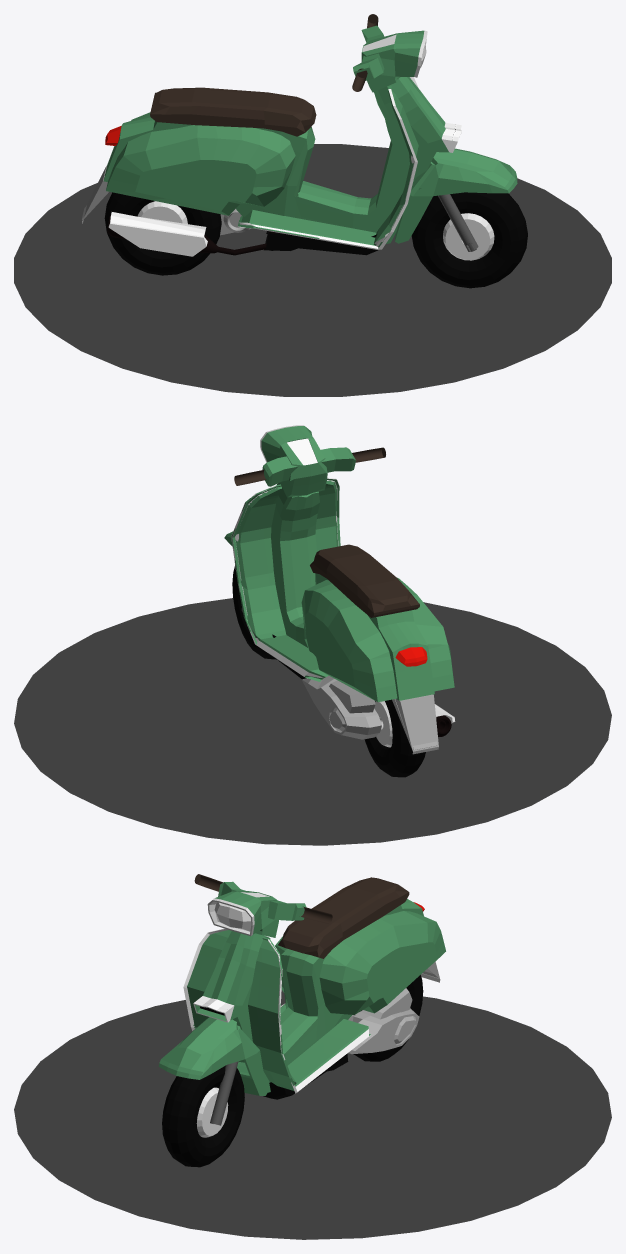
The model's file is moto.glb.
The picture shows the model from 3 angles, top to bottom: view 1: azimuth 30°, elevation 25°; view 2: azimuth 150°, elevation 25°; view 3: azimuth 270°, elevation 25°; orthographic projection.
Visible parts, largest first — view 1: floor_0, Plane.002_22, Plane.001_21, Torus.001_11, Seat_16, Plane.006_24, Plane.005_25, Torus_26, Plane.008_10, Plane.004_23, Torus.002_12, Plane.007_14 (+4 smaller); view 2: floor_0, Plane.002_22, Plane.005_25, Plane.001_21, Seat_16, Plane.004_23, Plane.003_13, Handlebar_20, Torus_26, Cube.001_18, Torus.001_11, Torus.003_27; view 3: floor_0, Plane.002_22, Plane.001_21, Plane.005_25, Torus.001_11, Seat_16, Plane.006_24, Plane.003_13, Plane.004_23, Handlebar_20, Torus.002_12, Torus_26 (+3 smaller).
Part boxes in pixels (x1,y1,x2,y2): floor_0: [14, 144, 611, 396]; Plane.002_22: [106, 112, 295, 215]; Plane.001_21: [103, 76, 461, 243]; Torus.001_11: [411, 192, 527, 288]; Seat_16: [150, 87, 316, 136]; Plane.006_24: [395, 148, 517, 243]; Plane.005_25: [238, 77, 418, 249]; Torus_26: [104, 192, 221, 275]; Plane.008_10: [108, 212, 207, 256]; Plane.004_23: [361, 30, 427, 92]; Torus.002_12: [443, 213, 494, 260]; Plane.007_14: [264, 231, 377, 255]; floor_0: [14, 598, 611, 845]; Plane.002_22: [301, 577, 454, 702]; Plane.005_25: [231, 477, 340, 681]; Plane.001_21: [271, 482, 434, 700]; Seat_16: [310, 544, 419, 617]; Plane.004_23: [260, 425, 327, 497]; Plane.003_13: [301, 675, 381, 739]; Handlebar_20: [234, 447, 385, 486]; Torus_26: [364, 699, 425, 777]; Cube.001_18: [392, 694, 438, 754]; Torus.001_11: [232, 565, 277, 659]; Torus.003_27: [374, 701, 392, 747]; floor_0: [14, 990, 611, 1239]; Plane.002_22: [275, 911, 445, 1014]; Plane.001_21: [193, 899, 423, 1092]; Plane.005_25: [183, 928, 370, 1093]; Torus.001_11: [162, 1065, 244, 1167]; Seat_16: [278, 877, 409, 958]; Plane.006_24: [158, 1017, 267, 1095]; Plane.003_13: [348, 988, 419, 1054]; Plane.004_23: [207, 891, 278, 937]; Handlebar_20: [194, 874, 332, 923]; Torus.002_12: [196, 1087, 228, 1137]; Torus_26: [353, 975, 423, 1061].
Size of what is drawn, in the model's own units: 1.7 by 0.7694 by 1.7.
